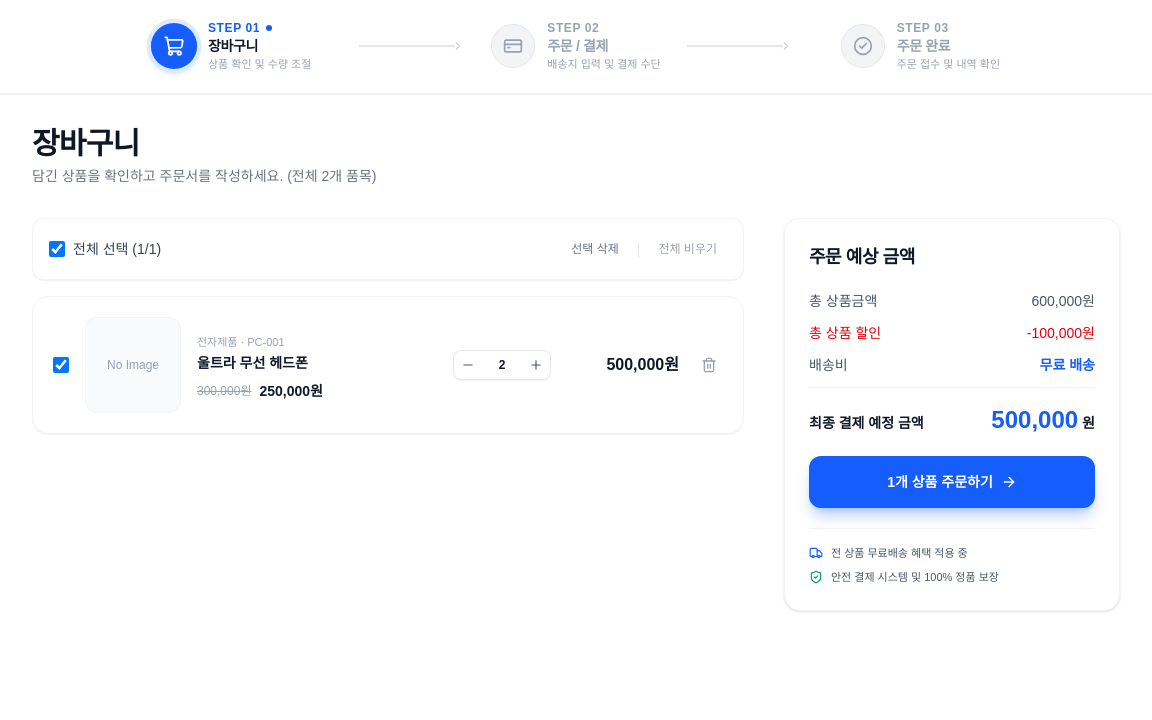
it: CartView Component › 개별 삭제 버튼 클릭 시 해당 아이템이 삭제되어 빈 장바구니로 전환된다
Click the button named "울트라 무선 헤드폰 삭제": (709, 364) [695,350,723,378]
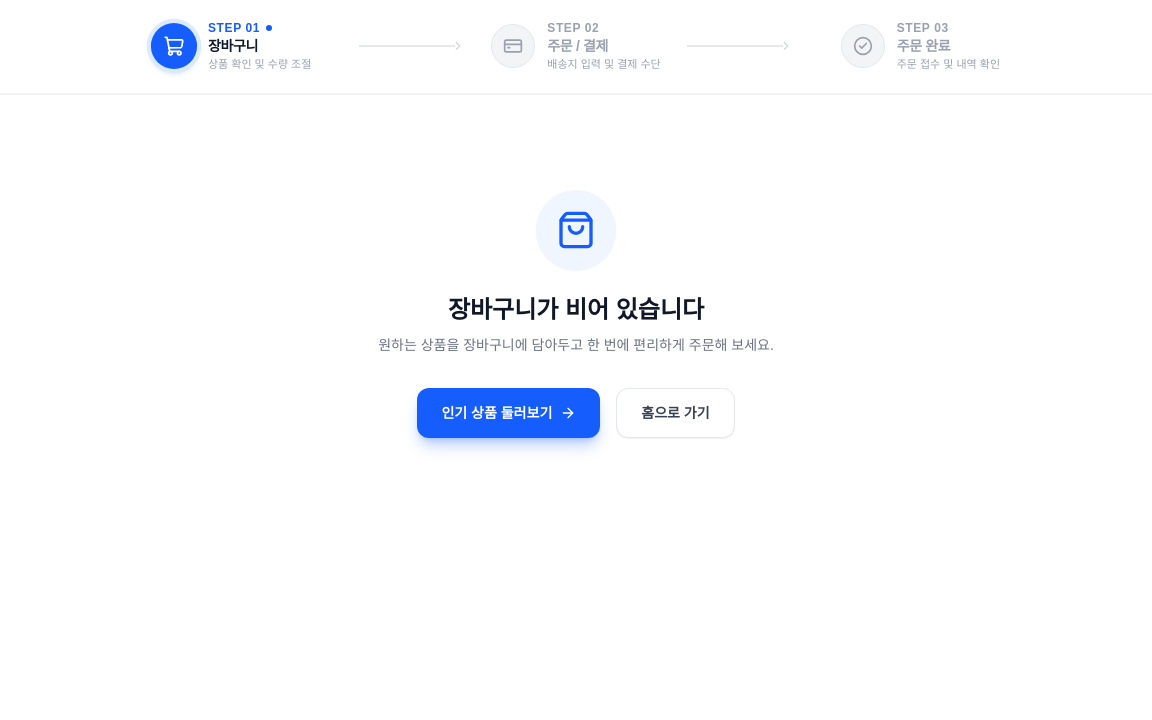
Expected: the heading "장바구니가 비어 있습니다" is shown, [448,296,704,322]
